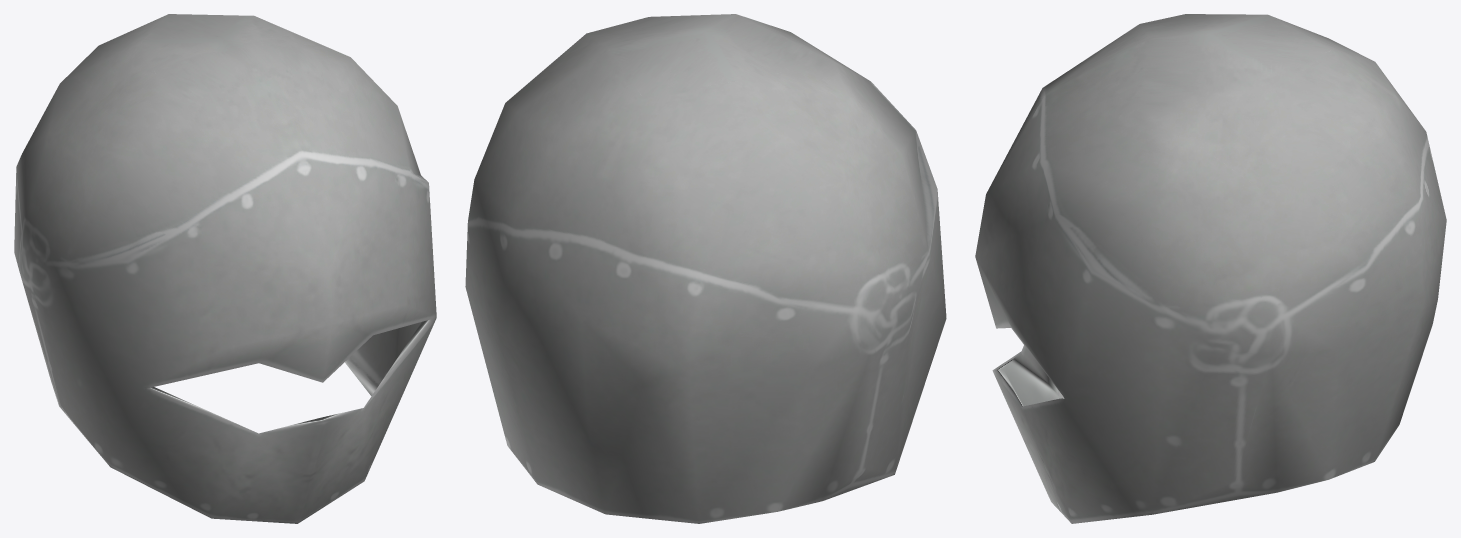
The model's file is CE_PlateHelmet.glb.
3 renders of one model, left to right at view 1: azimuth 30°, elevation 25°; view 2: azimuth 150°, elevation 25°; view 3: azimuth 270°, elevation 25°, orthographic. The views are drawn at different scales.
Parts seen in each view (by area): view 1: plateArmorHelmet.001; view 2: plateArmorHelmet.001; view 3: plateArmorHelmet.001.
Boxes of the visible parts, box(x1,y1,x2,y2) form: plateArmorHelmet.001: box(14, 14, 436, 523); plateArmorHelmet.001: box(465, 14, 946, 523); plateArmorHelmet.001: box(975, 14, 1446, 523).
Size of the model in its own units: 10.26 by 11.54 by 10.54.
Materials: 1 (1 with a texture image).
